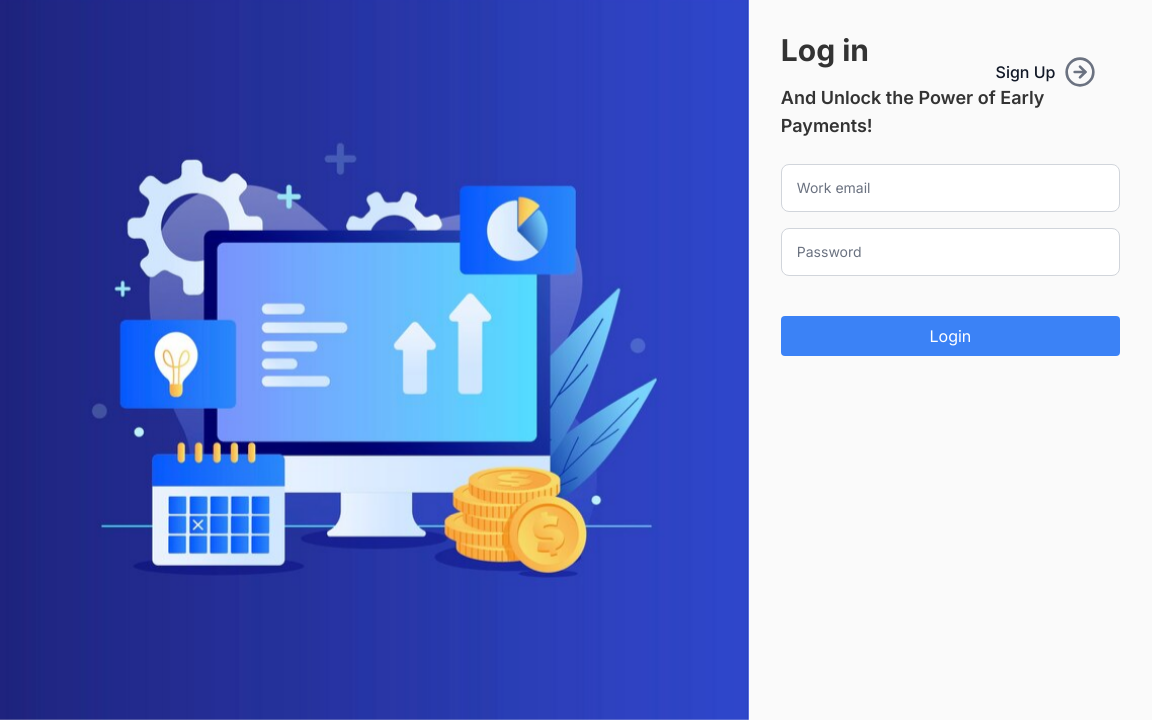
Scenario: LoginForm › displays validation error for invalid email
The width and height of the screenshot is (1152, 720).
Type "ThisIsMyEmailAddress" into the field with placeholder "Work email" at coordinates (950, 188), box [781,164,1120,212]
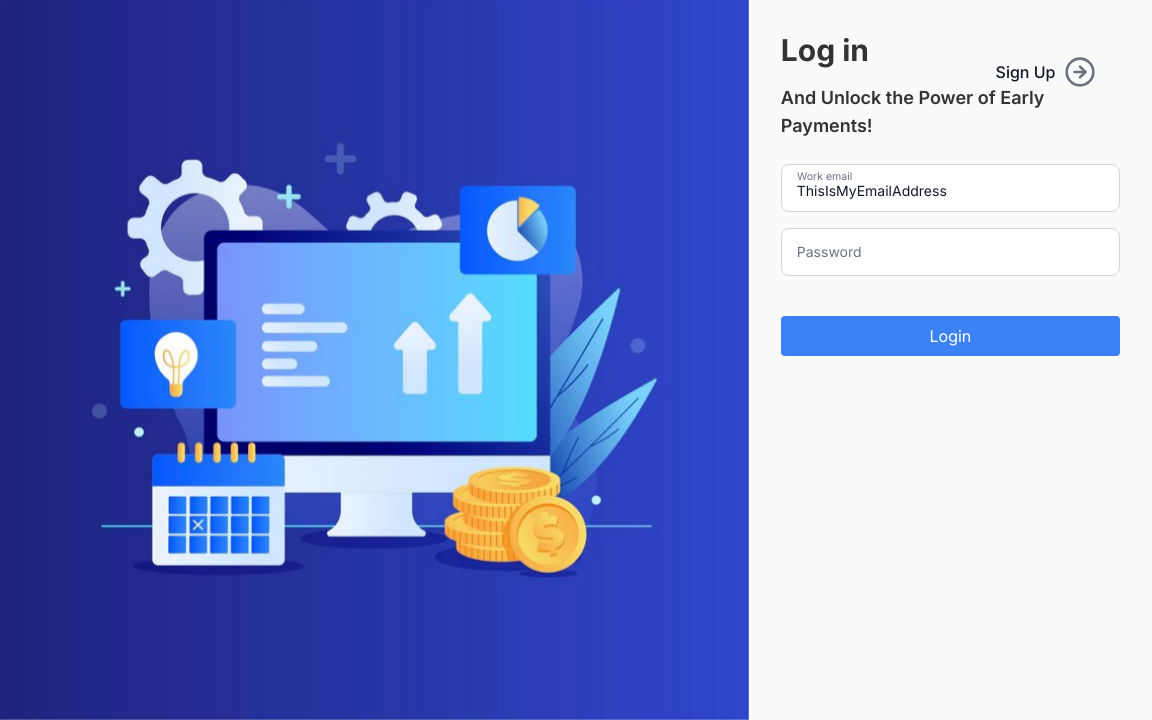
Click the button "Login" at coordinates (950, 336), box [781,316,1120,356]
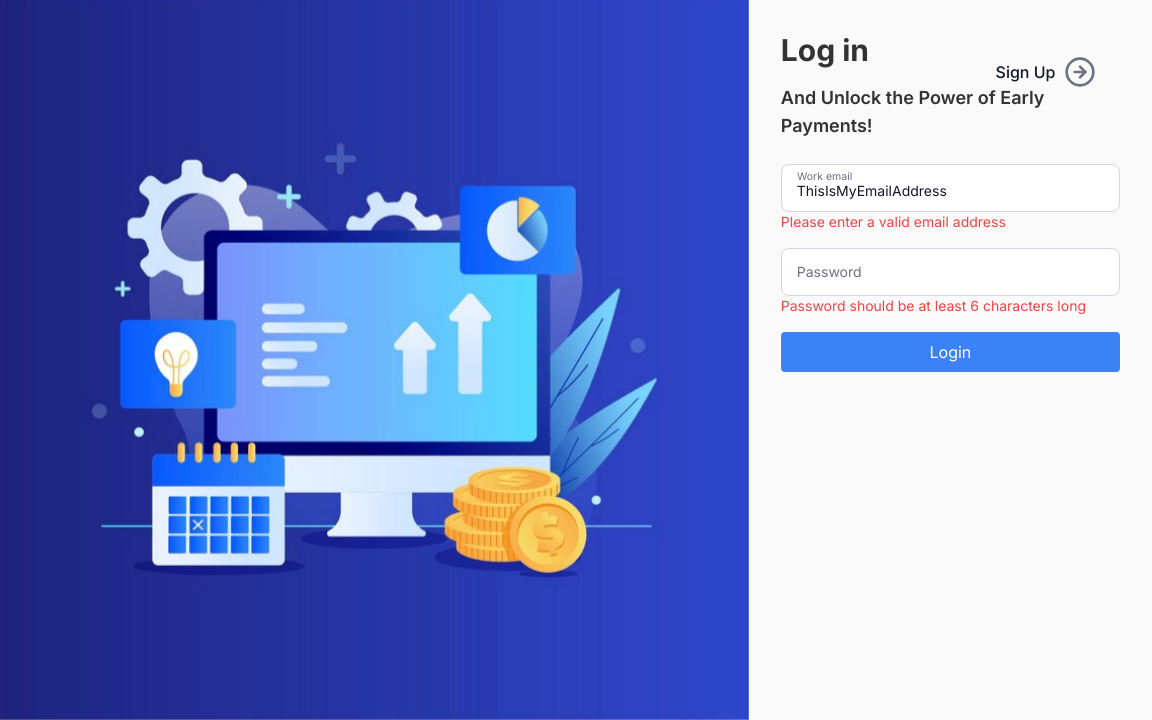
Expected: the text "Please enter a valid email address" is shown, [781,213,1006,230]
